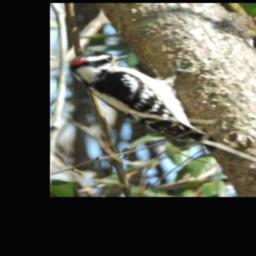Woodpecker: (70, 52, 207, 142)
